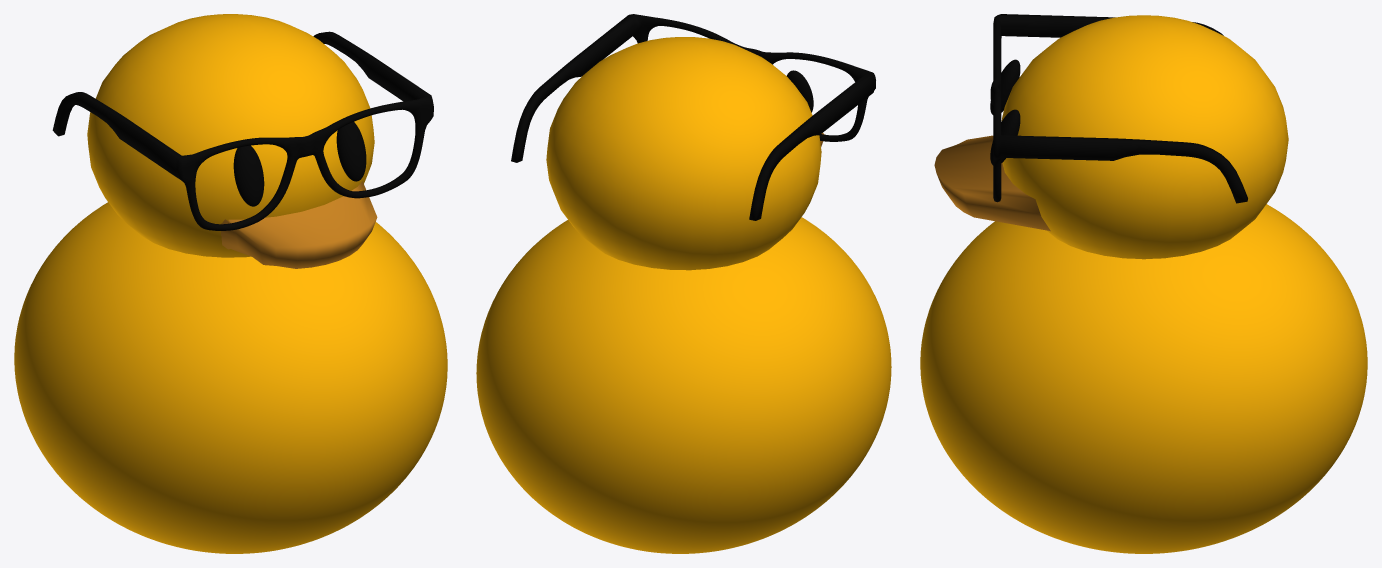
Rendered from ducky.fbx.
3 views of the same model, side by side, from view 1: azimuth 30°, elevation 25°; view 2: azimuth 150°, elevation 25°; view 3: azimuth 270°, elevation 25° (orthographic). The views are drawn at different scales.
Visible parts, largest first — view 1: Corpo, TESTA, Glasses, becci, Occhi; view 2: Corpo, TESTA, Glasses; view 3: Corpo, TESTA, Glasses, becci, Occhi.
Part boxes in pixels (<box>): Corpo: <box>14,202,447,553</box>; TESTA: <box>87,14,374,257</box>; Glasses: <box>52,31,433,230</box>; becci: <box>221,181,377,268</box>; Occhi: <box>233,122,366,206</box>; Corpo: <box>476,217,891,553</box>; TESTA: <box>546,37,821,270</box>; Glasses: <box>511,14,875,220</box>; Corpo: <box>920,204,1367,553</box>; TESTA: <box>1001,15,1288,259</box>; Glasses: <box>990,14,1247,203</box>; becci: <box>934,135,1050,231</box>; Occhi: <box>990,59,1020,165</box>.
Bounding box in the file's own units: 260 × 336 × 272.
